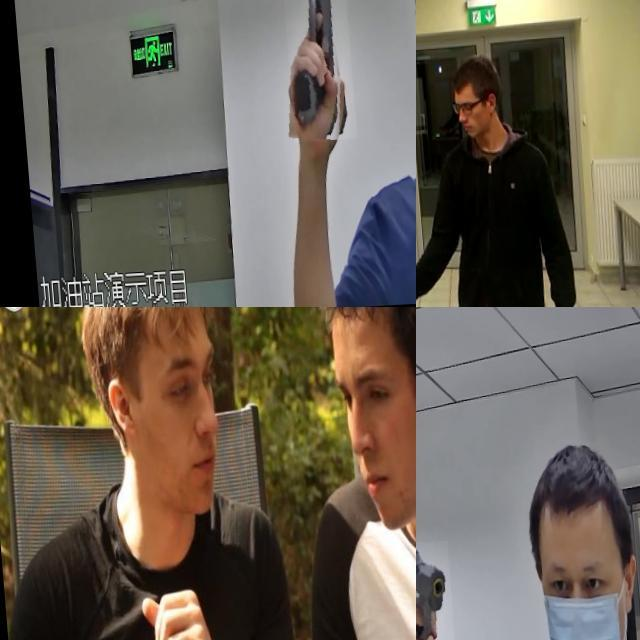gun-knife-thesis - v11 Yolov5 augmented: (272, 0, 349, 145), (416, 544, 451, 640), (416, 278, 445, 307)
